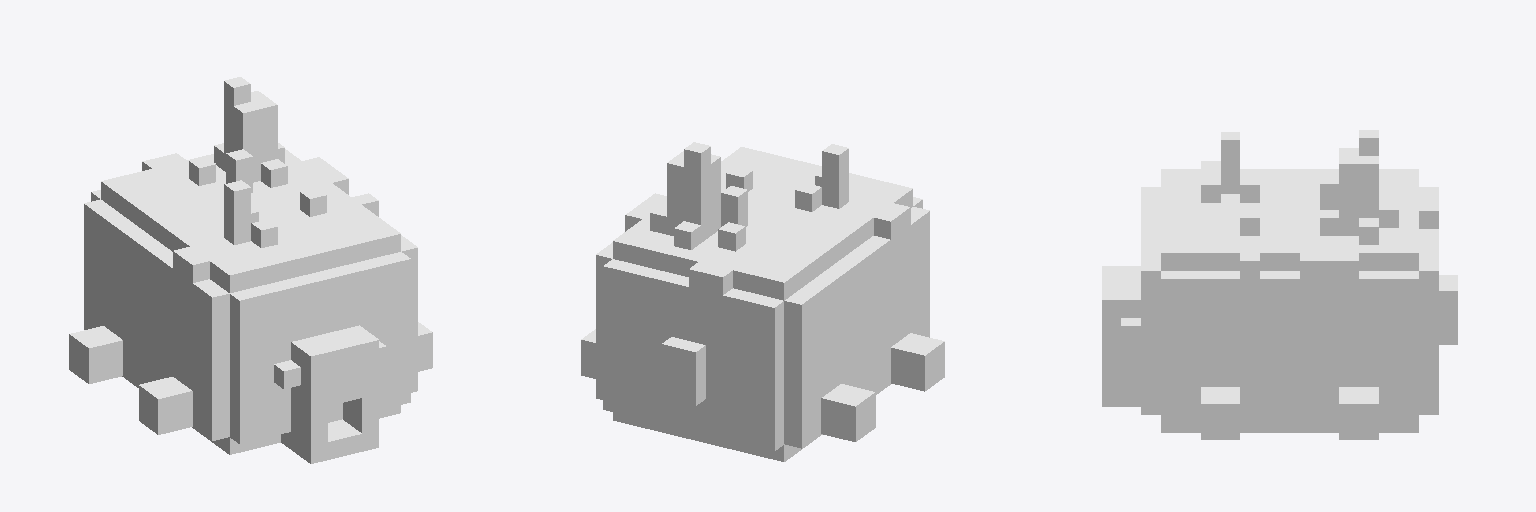
File: Voxels-6.obj
3 renders of one model, left to right at view 1: azimuth 30°, elevation 25°; view 2: azimuth 150°, elevation 25°; view 3: azimuth 270°, elevation 25°, orthographic.
Parts seen in each view (by area): view 1: Voxels-6; view 2: Voxels-6; view 3: Voxels-6.
Part boxes in pixels (bbox=[...]): Voxels-6: bbox=[69, 77, 432, 463]; Voxels-6: bbox=[581, 142, 944, 461]; Voxels-6: bbox=[1102, 130, 1457, 439].
Size of the model in its own units: 16 by 15 by 18.